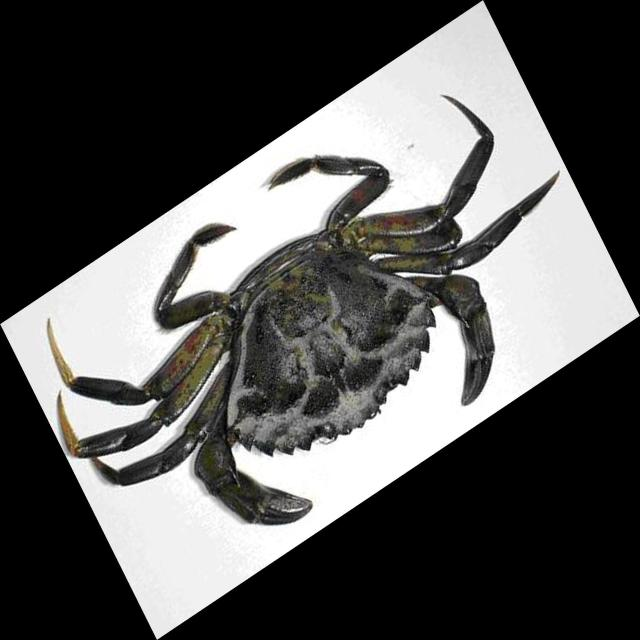European Green crab: (48, 96, 559, 525)
